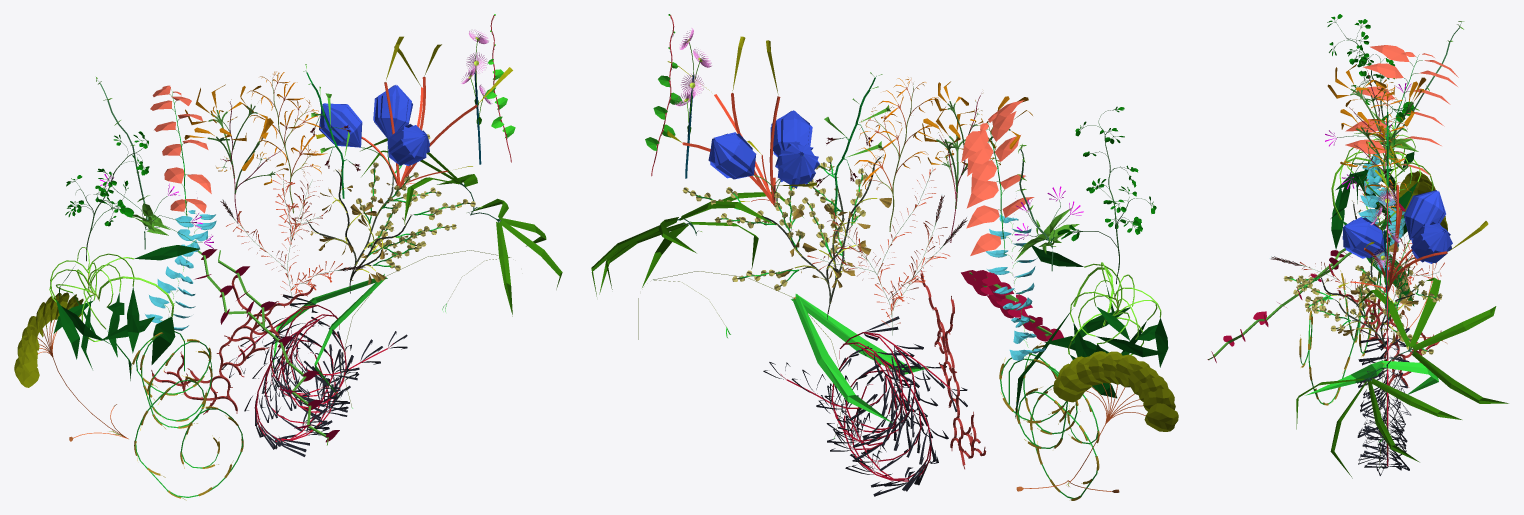
Rendered from Strange breeder plants_saved.obj.
The picture shows the model from 3 angles, left to right: view 1: azimuth 30°, elevation 25°; view 2: azimuth 150°, elevation 25°; view 3: azimuth 270°, elevation 25°; orthographic projection. The views are drawn at different scales.
Visible parts, largest first — view 1: redloop, Bluebal, Droopyp, bush-lik, spiderp, pharoah, loopypl, flatvin, oriental, coralpl, Flagpla, hourglas (+8 smaller); view 2: redloop, Bluebal, pharoah, Droopyp, bush-lik, oriental, seriousl, spiderp, loopypl, feathery, flatvin, Flagpla (+8 smaller); view 3: Bluebal, spiderp, bush-lik, redloop, Droopyp, oriental, Flagpla, hourglas, seriousl, knobbly, flatvin, feathery (+7 smaller).
Boxes of the visible parts, bbox=[...] form: redloop: bbox=[221, 294, 407, 456]; Bluebal: bbox=[316, 36, 512, 187]; Droopyp: bbox=[49, 245, 199, 380]; bush-lik: bbox=[306, 134, 475, 293]; spiderp: bbox=[360, 138, 562, 316]; pharoah: bbox=[14, 292, 128, 441]; loopypl: bbox=[131, 331, 243, 500]; flatvin: bbox=[194, 249, 339, 445]; oriental: bbox=[150, 85, 211, 229]; coralpl: bbox=[151, 275, 316, 414]; Flagpla: bbox=[184, 84, 288, 223]; hourglas: bbox=[145, 197, 216, 330]; redloop: bbox=[763, 316, 967, 496]; Bluebal: bbox=[667, 36, 819, 205]; pharoah: bbox=[1016, 351, 1178, 492]; Droopyp: bbox=[1015, 245, 1168, 418]; bush-lik: bbox=[682, 154, 891, 319]; oriental: bbox=[961, 100, 1034, 255]; seriousl: bbox=[638, 271, 929, 438]; spiderp: bbox=[591, 191, 803, 296]; loopypl: bbox=[999, 342, 1099, 500]; feathery: bbox=[807, 168, 967, 335]; flatvin: bbox=[961, 270, 1063, 341]; Flagpla: bbox=[913, 81, 1032, 242]; Bluebal: bbox=[1338, 145, 1488, 304]; spiderp: bbox=[1296, 277, 1508, 478]; bush-lik: bbox=[1283, 200, 1442, 359]; redloop: bbox=[1357, 325, 1411, 475]; Droopyp: bbox=[1330, 125, 1433, 306]; oriental: bbox=[1345, 45, 1458, 176]; Flagpla: bbox=[1327, 64, 1426, 181]; hourglas: bbox=[1358, 154, 1405, 271]; seriousl: bbox=[1305, 360, 1438, 467]; knobbly: bbox=[1327, 14, 1414, 122]; flatvin: bbox=[1207, 203, 1405, 362]; feathery: bbox=[1271, 174, 1444, 317].
Size of the model in its own units: 375 by 264 by 191.
